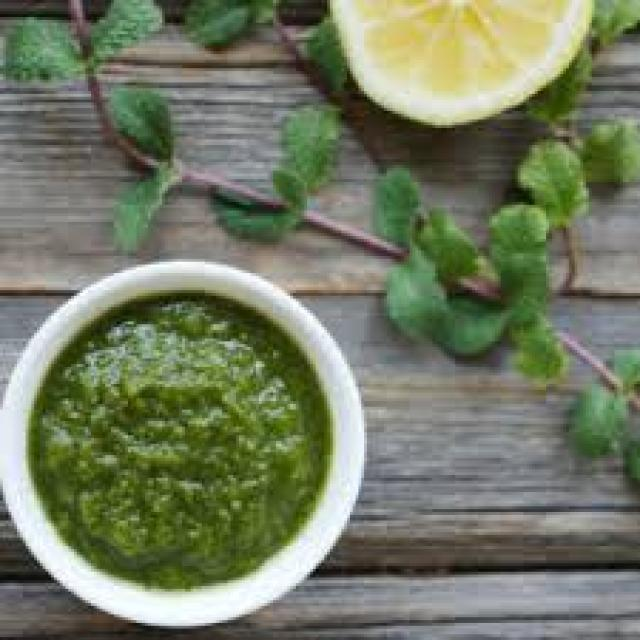GREEN CHUTNEY: (38, 297, 347, 640)
